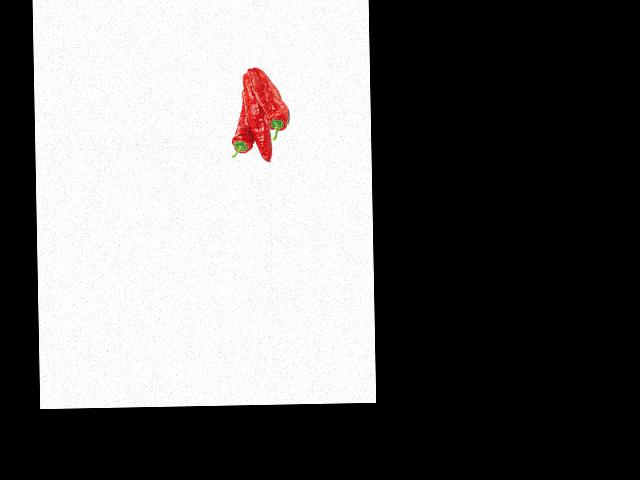bell_pepper: (256, 65, 292, 143)
